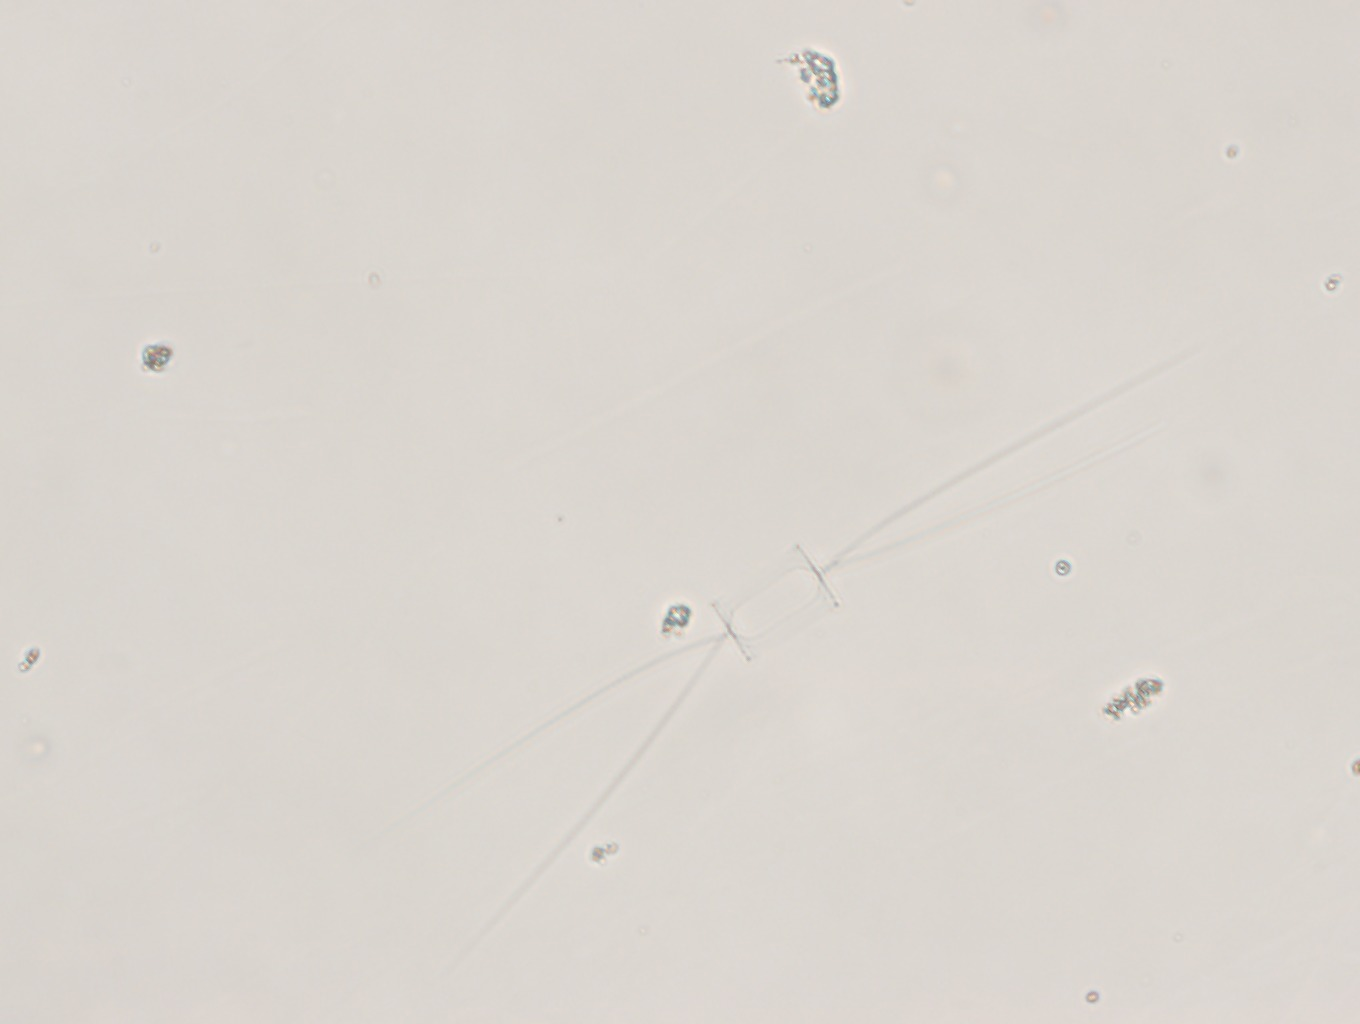chaetoceros: (393, 321, 1222, 955)
